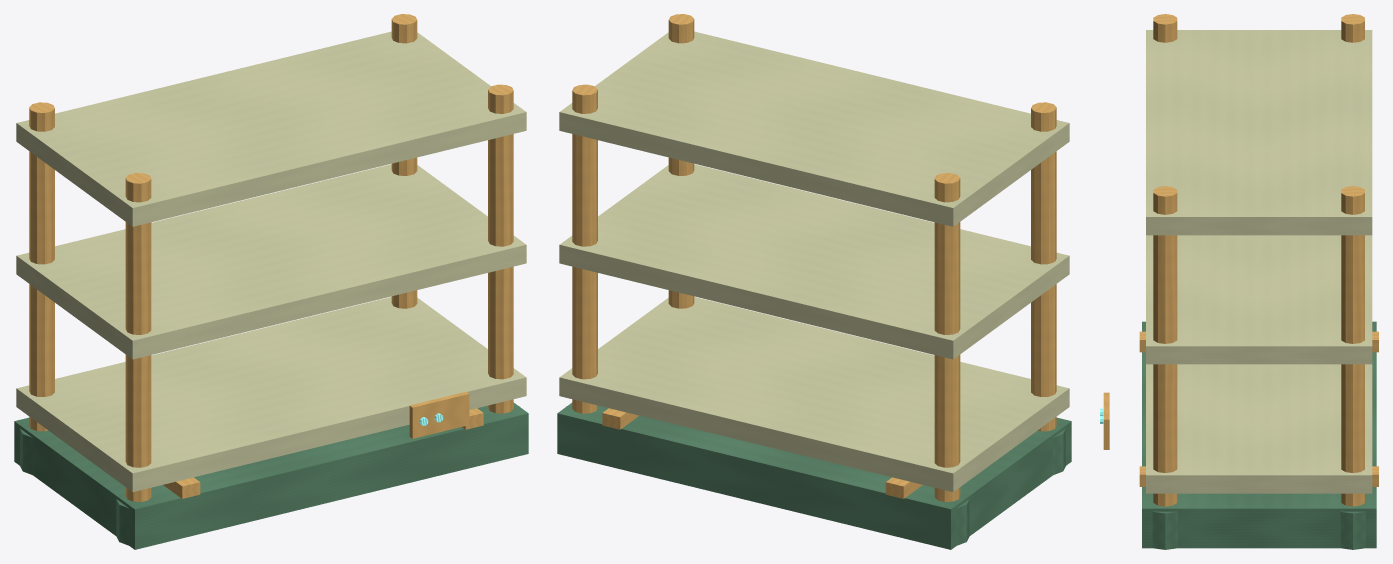
The model's file is atlas100-s005-a06.glb.
The picture shows the model from 3 angles, left to right: view 1: azimuth 30°, elevation 25°; view 2: azimuth 150°, elevation 25°; view 3: azimuth 270°, elevation 25°; orthographic projection. The views are drawn at different scales.
Parts seen in each view (by area): view 1: atlas100-s005-a06:part-013, atlas100-s005-a06:part-012, atlas100-s005-a06:part-011, atlas100-s005-a06:part-000, atlas100-s005-a06:part-005, atlas100-s005-a06:part-009, atlas100-s005-a06:part-003, atlas100-s005-a06:part-014, atlas100-s005-a06:part-007; view 2: atlas100-s005-a06:part-013, atlas100-s005-a06:part-012, atlas100-s005-a06:part-011, atlas100-s005-a06:part-000, atlas100-s005-a06:part-003, atlas100-s005-a06:part-007, atlas100-s005-a06:part-005, atlas100-s005-a06:part-009; view 3: atlas100-s005-a06:part-013, atlas100-s005-a06:part-012, atlas100-s005-a06:part-011, atlas100-s005-a06:part-000, atlas100-s005-a06:part-009, atlas100-s005-a06:part-007, atlas100-s005-a06:part-008, atlas100-s005-a06:part-010, atlas100-s005-a06:part-005, atlas100-s005-a06:part-003, atlas100-s005-a06:part-014.
Part boxes in pixels (box(x1,y1,x2,y2)): atlas100-s005-a06:part-013: box(16, 31, 526, 226); atlas100-s005-a06:part-012: box(16, 164, 526, 359); atlas100-s005-a06:part-011: box(16, 297, 526, 491); atlas100-s005-a06:part-000: box(14, 402, 528, 549); atlas100-s005-a06:part-005: box(125, 173, 151, 501); atlas100-s005-a06:part-009: box(488, 84, 513, 413); atlas100-s005-a06:part-003: box(29, 102, 54, 431); atlas100-s005-a06:part-014: box(409, 392, 469, 438); atlas100-s005-a06:part-007: box(391, 14, 417, 308); atlas100-s005-a06:part-013: box(559, 31, 1069, 226); atlas100-s005-a06:part-012: box(559, 164, 1069, 359); atlas100-s005-a06:part-011: box(559, 297, 1069, 491); atlas100-s005-a06:part-000: box(557, 402, 1071, 549); atlas100-s005-a06:part-003: box(934, 173, 960, 501); atlas100-s005-a06:part-007: box(572, 84, 597, 413); atlas100-s005-a06:part-005: box(1031, 102, 1056, 431); atlas100-s005-a06:part-009: box(668, 14, 694, 308); atlas100-s005-a06:part-013: box(1146, 30, 1372, 235); atlas100-s005-a06:part-012: box(1146, 235, 1372, 364); atlas100-s005-a06:part-011: box(1146, 364, 1372, 493); atlas100-s005-a06:part-000: box(1142, 321, 1376, 548); atlas100-s005-a06:part-009: box(1153, 186, 1177, 506); atlas100-s005-a06:part-007: box(1341, 186, 1364, 506); atlas100-s005-a06:part-008: box(1340, 511, 1365, 549); atlas100-s005-a06:part-010: box(1152, 511, 1177, 549); atlas100-s005-a06:part-005: box(1153, 14, 1177, 42); atlas100-s005-a06:part-003: box(1341, 14, 1364, 42); atlas100-s005-a06:part-014: box(1103, 392, 1109, 449).
Bounding box in the file's own units: 2.69 × 2.3 × 1.66.
Materials: 4 (4 with a texture image).
